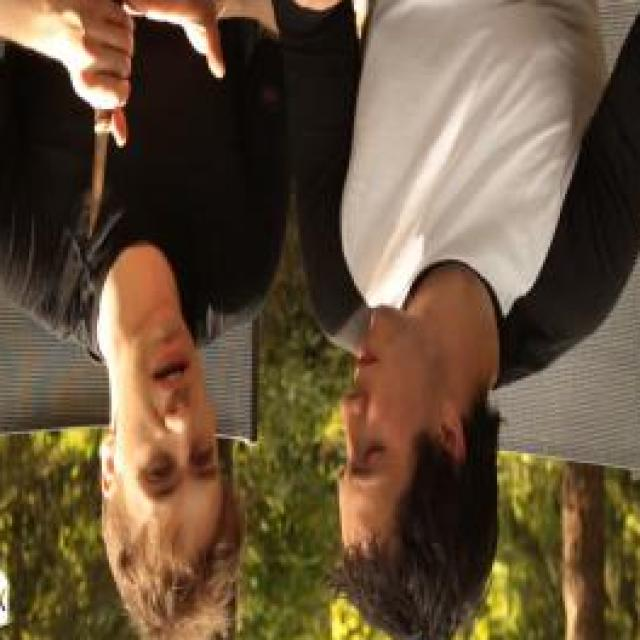knife: (80, 46, 136, 255)
